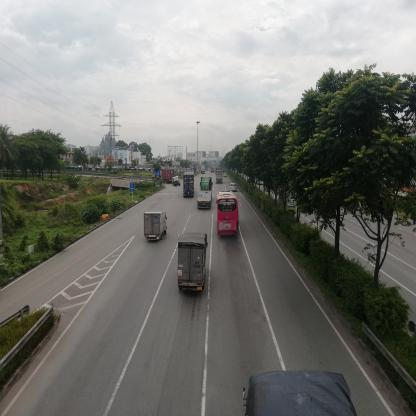bus: (218, 193, 241, 237)
car: (230, 184, 239, 192)
container: (198, 178, 213, 210), (183, 171, 197, 199), (159, 169, 177, 185)
truck: (244, 371, 351, 416), (179, 235, 209, 295), (145, 213, 168, 241), (174, 177, 179, 189)
